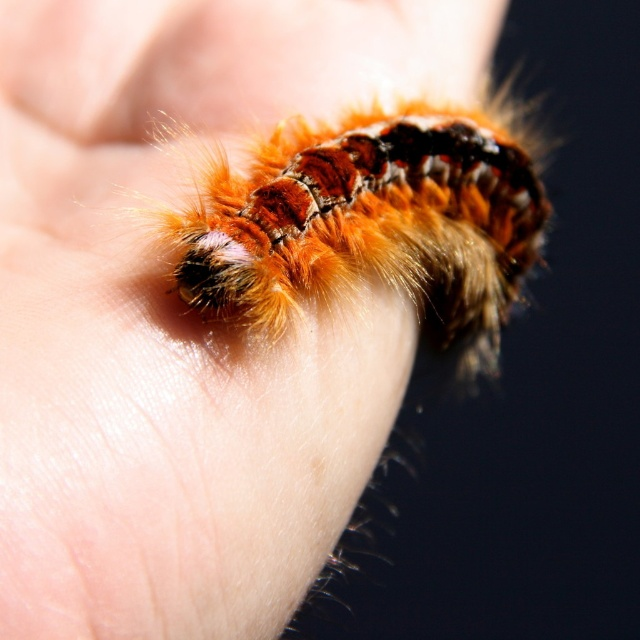Caterpillar: (80, 52, 573, 394)
